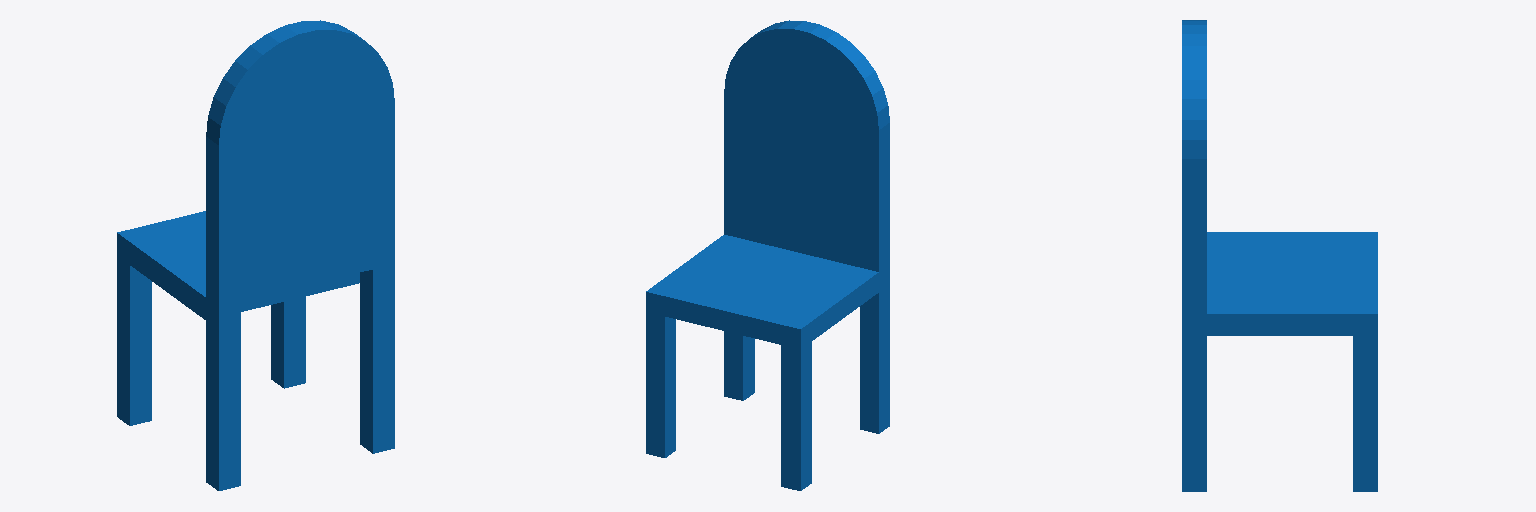
URDF robot description (cube):
<?xml version="0.0" ?>
<robot name="cube">
  <link name="baseLink">
    <contact>
      <lateral_friction value="1.0"/>
      <rolling_friction value="0.0"/>
      <contact_cfm value="0.0"/>
      <contact_erp value="1.0"/>
    </contact>
    <inertial>
      <mass value="5.020"/>
      <origin rpy="0 0 0" xyz="0 0 0"/>
      <inertia ixx="3e-06" ixy="0" ixz="0" iyy="3e-06" iyz="0" izz="3e-06"/>
    </inertial>
    <visual>
      <origin rpy="0 0 0" xyz="0 0 0"/>
      <geometry>
        <mesh filename="silla3.obj"/>
      </geometry>
      <material name="white">
        <color rgba="0.1 0.5 0.8 1"/>
      </material>
    </visual>
    <collision>
      <origin rpy="0 0 0" xyz="0 0 0"/>
      <geometry>
        <mesh filename="silla3.obj"/>
      </geometry>
    </collision>
  </link>
</robot>

--- What the picture shows (computed from the rendered views, not written in the file) ---
Views: 3 orthographic renders of the robot side by side, from view 1: azimuth 30°, elevation 25°; view 2: azimuth 150°, elevation 25°; view 3: azimuth 270°, elevation 25°.
Model cube with 1 links and 0 joints (none), rooted at baseLink, posed all joints at 0.
Visible links, largest first — view 1: baseLink; view 2: baseLink; view 3: baseLink.
Link boxes in pixels (x1,y1,x2,y2): baseLink: (117,20,394,490); baseLink: (646,20,889,490); baseLink: (1182,20,1377,491).
Bounding box of the posed robot: 400 × 400 × 949 m (x, y, z).
1 mesh visuals loaded from 1 distinct referenced files (1 OBJ).